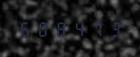eight: (52, 20, 68, 37)
five: (17, 20, 33, 37)
four: (69, 20, 85, 37)
seven: (86, 20, 102, 37)
three: (103, 20, 119, 37)
zero: (34, 20, 50, 37)
